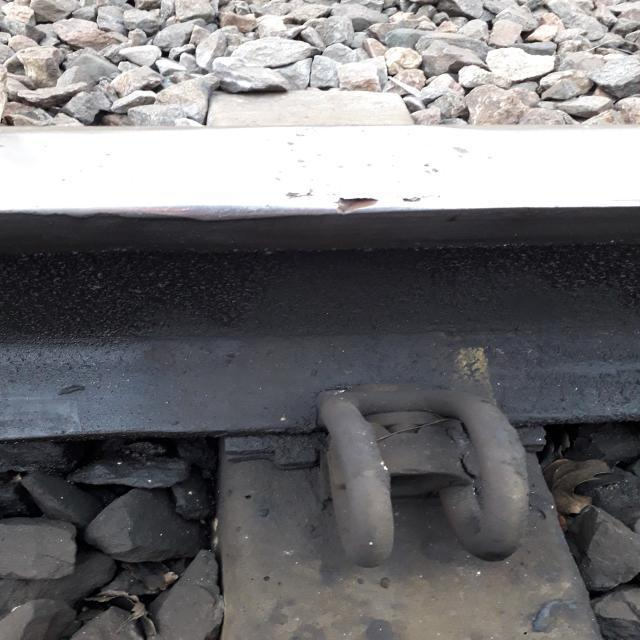head_checks_low: (334, 196, 379, 214), (284, 186, 316, 202), (286, 131, 308, 147), (422, 162, 440, 175), (452, 144, 469, 156), (402, 196, 422, 203), (296, 158, 306, 166)
